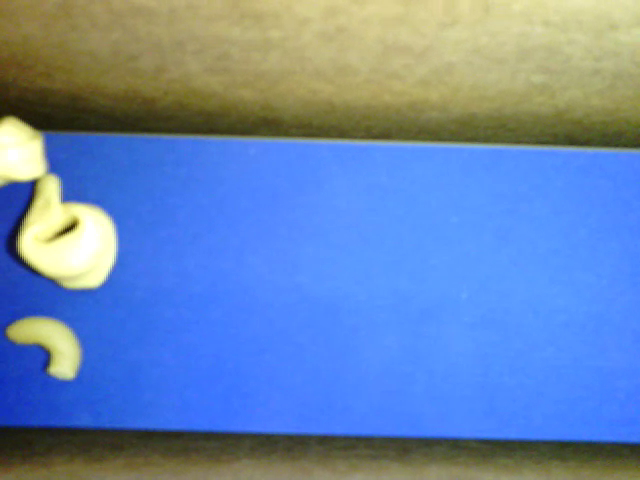elbow: (5, 314, 82, 383)
tortellini: (17, 173, 116, 289)
